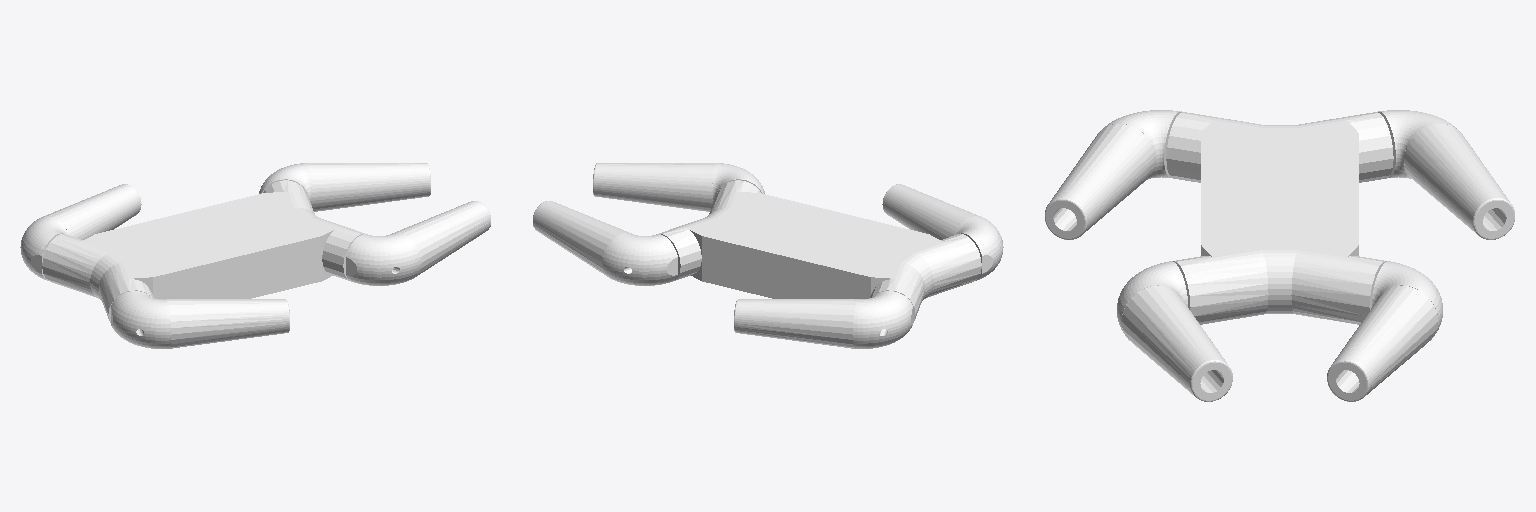
robot.urdf — 21_degree:
<?xml version="1.0" encoding="utf-8"?>
<!-- This URDF was automatically created by SolidWorks to URDF Exporter! Originally created by [author] ([email redacted]) 
     Commit Version: 1.5.1-0-g916b5db  Build Version: 1.5.7152.31018
     For more information, please see http://wiki.ros.org/sw_urdf_exporter -->
<robot
  name="21_degree">
  <link
    name="base_link">
    <inertial>
      <origin
        xyz="-6.245E-17 6.8506E-08 6.9389E-18"
        rpy="0 0 0" />
      <mass
        value="2.803" />
      <inertia
        ixx="0.009688369"
        ixy="-3.2095E-18"
        ixz="-8.187E-11"
        iyy="0.043368862"
        iyz="2.8793E-18"
        izz="0.050684122" />
    </inertial>
    <visual>
      <origin
        xyz="0 0 0"
        rpy="0 0 0" />
      <geometry>
        <mesh
          filename="package://21_degree/meshes/base_link.STL" />
      </geometry>
      <material
        name="">
        <color
          rgba="1 1 1 1" />
      </material>
    </visual>
    <collision>
      <origin
        xyz="0 0 0"
        rpy="0 0 0" />
      <geometry>
        <mesh
          filename="package://21_degree/meshes/base_link.STL" />
      </geometry>
    </collision>
  </link>
  <link
    name="left_fromt_link">
    <inertial>
      <origin
        xyz="-9.259E-08 0.076335 -0.0096601"
        rpy="0 0 0" />
      <mass
        value="0.0933" />
      <inertia
        ixx="0.000356267"
        ixy="1.4102E-12"
        ixz="9.8484E-10"
        iyy="0.000073809"
        iyz="-0.000082481"
        izz="0.000331377" />
    </inertial>
    <visual>
      <origin
        xyz="0 0 0"
        rpy="0 0 0" />
      <geometry>
        <mesh
          filename="package://21_degree/meshes/left_fromt_link.STL" />
      </geometry>
      <material
        name="">
        <color
          rgba="1 1 1 1" />
      </material>
    </visual>
    <collision>
      <origin
        xyz="0 0 0"
        rpy="0 0 0" />
      <geometry>
        <mesh
          filename="package://21_degree/meshes/left_fromt_link.STL" />
      </geometry>
    </collision>
  </link>
  <joint
    name="left_front_leg"
    type="continuous">
    <origin
      xyz="0.16691 0.096159 0"
      rpy="1.5708 1.5708 0" />
    <parent
      link="base_link" />
    <child
      link="left_fromt_link" />
    <axis
      xyz="0 0.35837 -0.93358" />
    <limit
      effort="5"
      velocity="487" />
  </joint>
  <link
    name="right_front_link">
    <inertial>
      <origin
        xyz="9.259E-08 0.076335 0.0096601"
        rpy="0 0 0" />
      <mass
        value="0.0933" />
      <inertia
        ixx="0.000356267"
        ixy="-1.4102E-12"
        ixz="9.8484E-10"
        iyy="0.000073809"
        iyz="0.000082481"
        izz="0.000331377" />
    </inertial>
    <visual>
      <origin
        xyz="0 0 0"
        rpy="0 0 0" />
      <geometry>
        <mesh
          filename="package://21_degree/meshes/right_front_link.STL" />
      </geometry>
      <material
        name="">
        <color
          rgba="1 1 1 1" />
      </material>
    </visual>
    <collision>
      <origin
        xyz="0 0 0"
        rpy="0 0 0" />
      <geometry>
        <mesh
          filename="package://21_degree/meshes/right_front_link.STL" />
      </geometry>
    </collision>
  </link>
  <joint
    name="right_front_leg"
    type="continuous">
    <origin
      xyz="0.16691 -0.096159 0"
      rpy="1.5708 1.5708 0" />
    <parent
      link="base_link" />
    <child
      link="right_front_link" />
    <axis
      xyz="0 0.35837 0.93358" />
    <limit
      effort="5"
      velocity="487" />
  </joint>
  <link
    name="right_back_link">
    <inertial>
      <origin
        xyz="7.6024E-08 0.067804 0.036374"
        rpy="0 0 0" />
      <mass
        value="0.0933" />
      <inertia
        ixx="0.000356267"
        ixy="-3.6354E-10"
        ixz="2.1383E-10"
        iyy="0.000051697"
        iyz="-0.000024878"
        izz="0.000353489" />
    </inertial>
    <visual>
      <origin
        xyz="0 0 0"
        rpy="0 0 0" />
      <geometry>
        <mesh
          filename="package://21_degree/meshes/right_back_link.STL" />
      </geometry>
      <material
        name="">
        <color
          rgba="1 1 1 1" />
      </material>
    </visual>
    <collision>
      <origin
        xyz="0 0 0"
        rpy="0 0 0" />
      <geometry>
        <mesh
          filename="package://21_degree/meshes/right_back_link.STL" />
      </geometry>
    </collision>
  </link>
  <joint
    name="right_back_leg"
    type="continuous">
    <origin
      xyz="-0.16691 -0.096159 0"
      rpy="1.9373 1.5708 0" />
    <parent
      link="base_link" />
    <child
      link="right_back_link" />
    <axis
      xyz="0 0 1" />
    <limit
      effort="5"
      velocity="487" />
  </joint>
  <link
    name="left_back_link">
    <inertial>
      <origin
        xyz="-7.6024E-08 0.050265 -0.058257"
        rpy="0 0 0" />
      <mass
        value="0.0933" />
      <inertia
        ixx="0.000356267"
        ixy="4.1602E-10"
        ixz="6.9347E-11"
        iyy="0.000107102"
        iyz="0.000119457"
        izz="0.000298084" />
    </inertial>
    <visual>
      <origin
        xyz="0 0 0"
        rpy="0 0 0" />
      <geometry>
        <mesh
          filename="package://21_degree/meshes/left_back_link.STL" />
      </geometry>
      <material
        name="">
        <color
          rgba="1 1 1 1" />
      </material>
    </visual>
    <collision>
      <origin
        xyz="0 0 0"
        rpy="0 0 0" />
      <geometry>
        <mesh
          filename="package://21_degree/meshes/left_back_link.STL" />
      </geometry>
    </collision>
  </link>
  <joint
    name="left_back_leg"
    type="continuous">
    <origin
      xyz="-0.16691 0.096159 0"
      rpy="1.5708 1.5708 0" />
    <parent
      link="base_link" />
    <child
      link="left_back_link" />
    <axis
      xyz="0 -0.35837 -0.93358" />
    <limit
      effort="5"
      velocity="487" />
  </joint>
</robot>

--- Render facts (derived) ---
The picture shows the robot from 3 angles, left to right: view 1: azimuth 30°, elevation 25°; view 2: azimuth 150°, elevation 25°; view 3: azimuth 270°, elevation 25°; orthographic projection.
Model 21_degree with 5 links and 4 joints (4 continuous), rooted at base_link, posed all joints at 0.
Visible links, largest first — view 1: base_link, right_back_link, right_front_link, left_fromt_link, left_back_link; view 2: base_link, left_back_link, left_fromt_link, right_front_link, right_back_link; view 3: base_link, right_back_link, left_back_link, right_front_link, left_fromt_link.
Boxes of the visible links, x1,y1,x2,y2 form: base_link: (42, 180, 364, 322); right_back_link: (111, 291, 289, 348); right_front_link: (346, 201, 490, 285); left_fromt_link: (259, 163, 430, 211); left_back_link: (20, 184, 141, 280); base_link: (659, 180, 981, 322); left_back_link: (734, 291, 912, 348); left_fromt_link: (533, 201, 677, 285); right_front_link: (593, 163, 764, 211); right_back_link: (882, 184, 1003, 280); base_link: (1166, 112, 1393, 324); right_back_link: (1045, 110, 1181, 239); left_back_link: (1378, 110, 1514, 239); right_front_link: (1117, 261, 1232, 401); left_fromt_link: (1327, 261, 1442, 401).
Bounding box of the posed robot: 0.572 × 0.4459 × 0.064 m (x, y, z).
5 mesh visuals loaded from 5 distinct referenced files (5 binary STL).